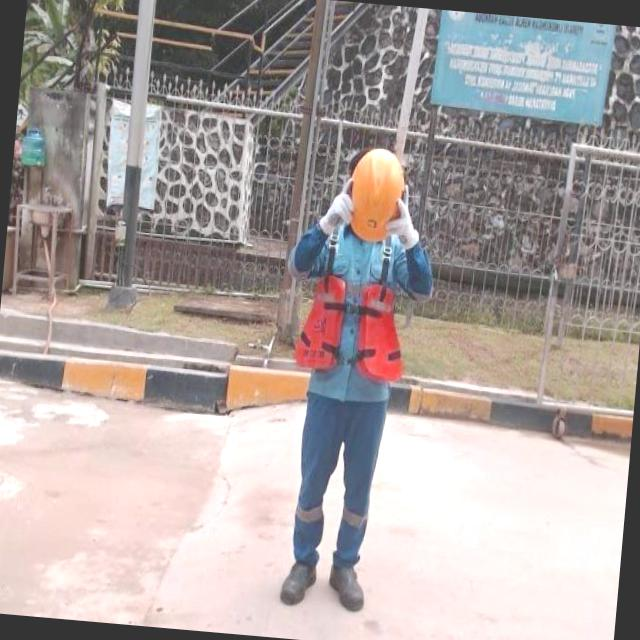vest: (290, 275, 410, 382)
